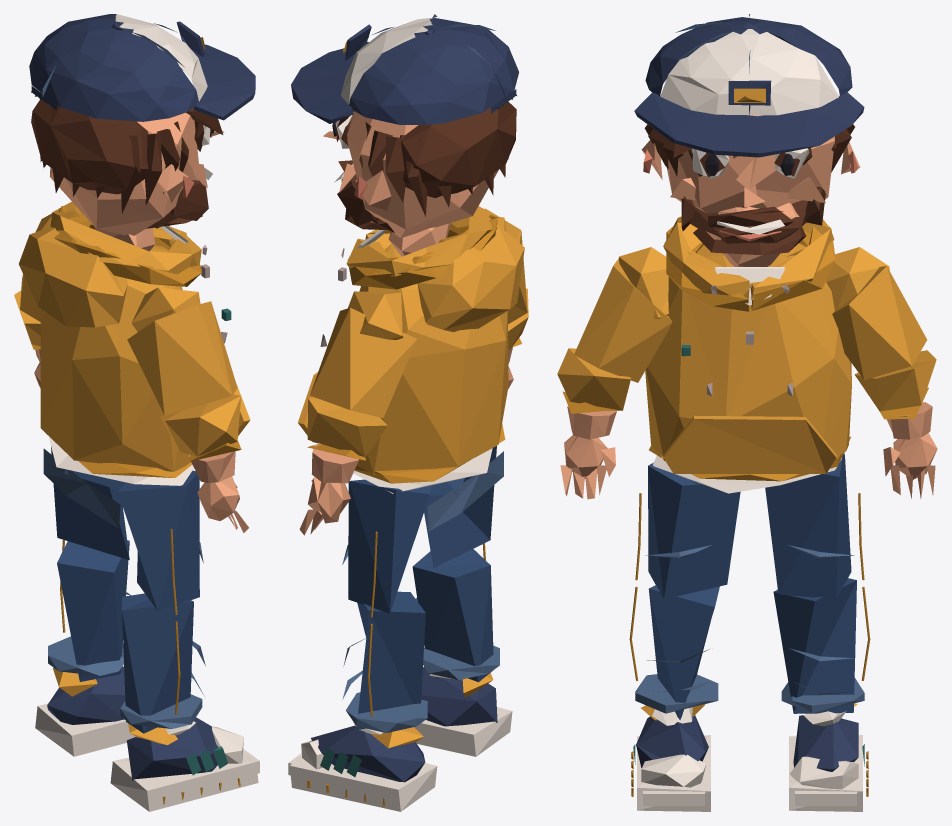
Rendered from npc.civilian-man-b.lod2.glb.
3 renders of one model, left to right at view 1: azimuth 30°, elevation 25°; view 2: azimuth 150°, elevation 25°; view 3: azimuth 270°, elevation 25°, orthographic.
Parts seen in each view (by area): view 1: head, torso, armR, footR, shinR, shinL, legR, footL, foreArmR, legL, hip, handR (+2 smaller); view 2: head, torso, footL, armL, shinR, shinL, legL, footR, foreArmL, legR, hip, handL (+2 smaller); view 3: torso, head, legR, legL, shinL, armL, armR, shinR, footR, footL, foreArmR, foreArmL (+2 smaller).
Part boxes in pixels (x1,y1,x2,y2): head: [29, 14, 255, 251]; torso: [19, 201, 250, 485]; armR: [127, 287, 237, 415]; footR: [110, 717, 259, 811]; shinR: [120, 593, 205, 733]; shinL: [48, 539, 130, 681]; legR: [118, 470, 203, 614]; footL: [35, 666, 135, 756]; foreArmR: [160, 394, 241, 482]; legL: [51, 446, 129, 559]; hip: [43, 448, 125, 528]; handR: [197, 476, 248, 532]; head: [291, 14, 518, 256]; torso: [298, 206, 524, 493]; footL: [288, 722, 437, 811]; armL: [310, 291, 417, 418]; shinR: [412, 543, 499, 682]; shinL: [342, 591, 427, 732]; legL: [342, 479, 431, 617]; footR: [414, 667, 512, 756]; foreArmL: [307, 397, 387, 483]; legR: [424, 446, 496, 568]; hip: [427, 451, 503, 530]; handL: [299, 477, 350, 535]; torso: [645, 216, 851, 493]; head: [634, 14, 864, 266]; legR: [635, 462, 740, 599]; legL: [765, 453, 864, 599]; shinL: [773, 578, 870, 713]; armL: [826, 247, 927, 379]; armR: [574, 247, 672, 382]; shinR: [629, 585, 719, 719]; footR: [631, 704, 710, 811]; footL: [789, 703, 868, 811]; foreArmR: [557, 348, 630, 439]; foreArmL: [854, 350, 936, 439].
Bounding box in the file's own units: 0.5183 × 1.79 × 0.8275.
